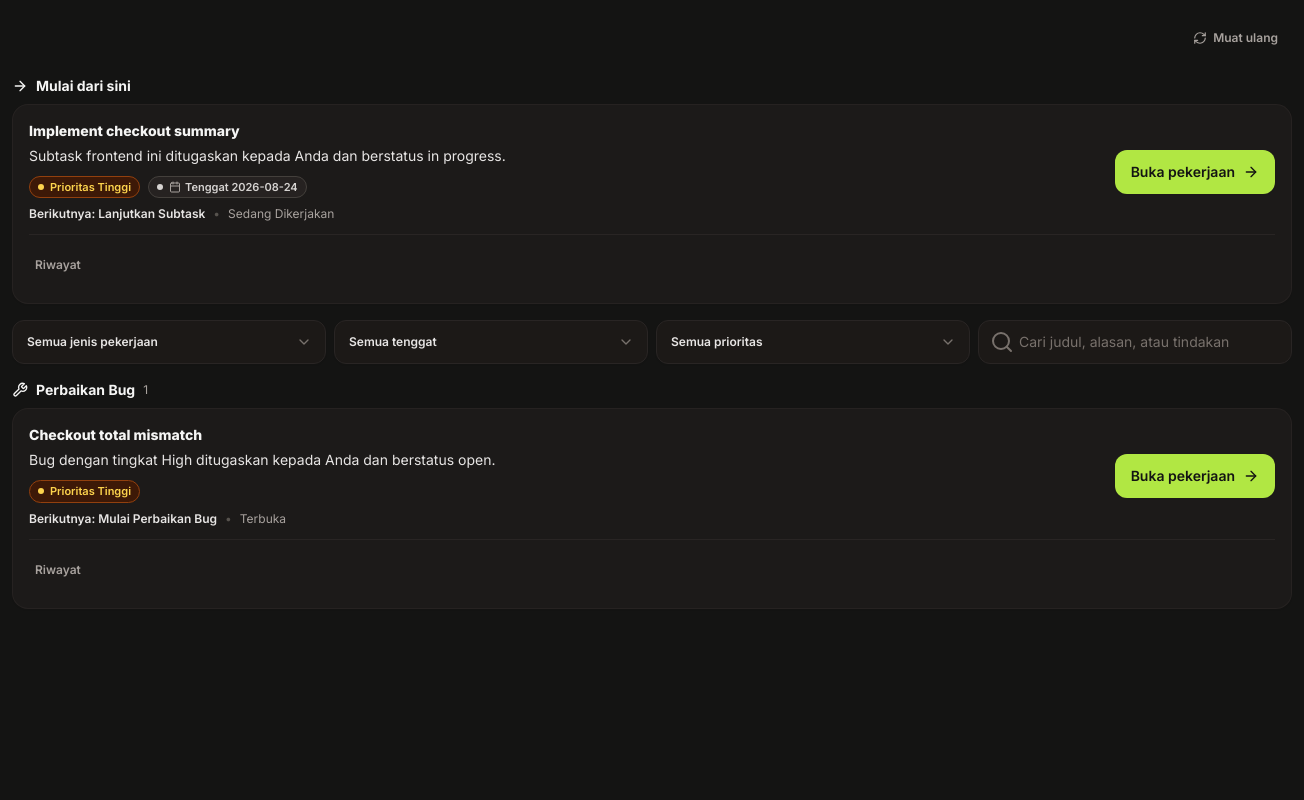
Test: RoleAwareWorkQueuePanel riwayat serah-terima (P4d, AC-4.5) › loads the Feature handoff history only when "Riwayat" is opened
Click the button "Riwayat" below "Berikutnya: Lanjutkan Subtask". click: (58, 265)
box: top-left (21, 243), bottom-right (95, 287)
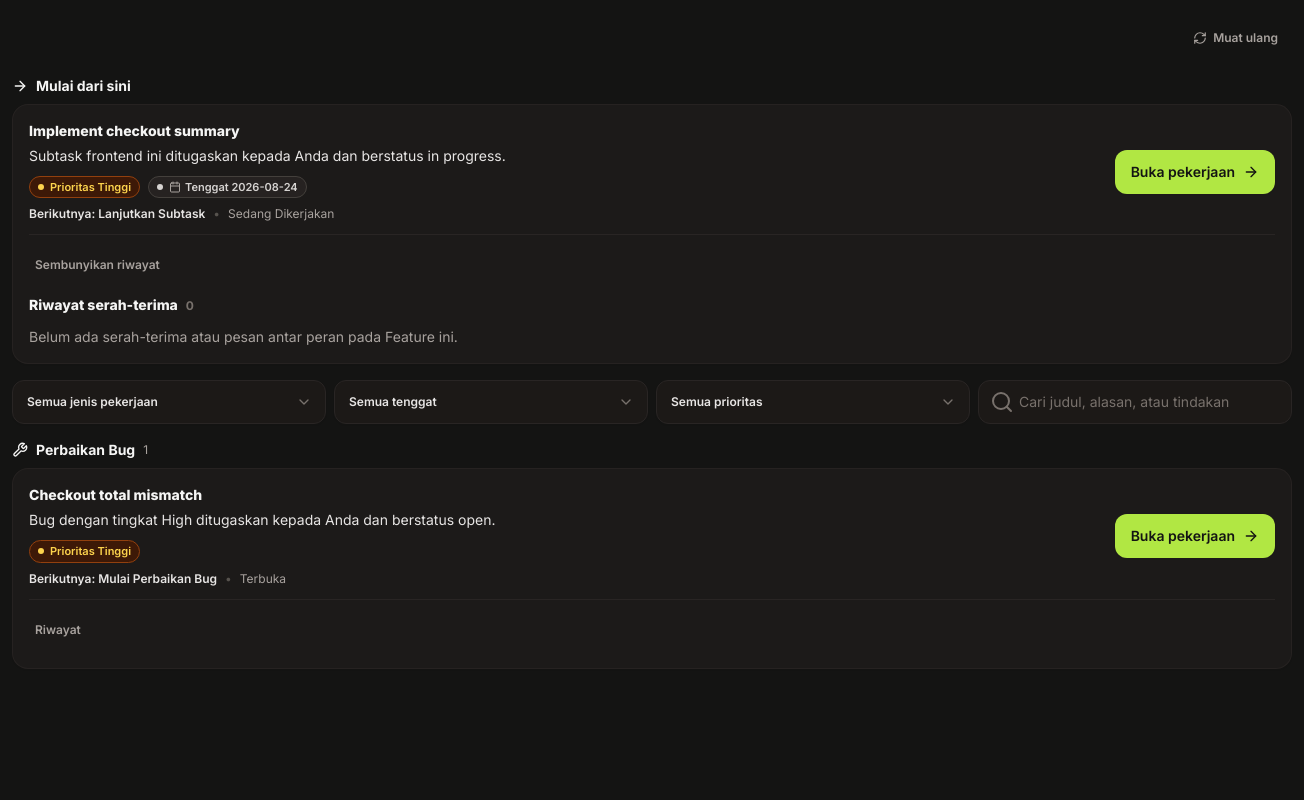
Expected: the text "Belum ada serah-terima" is shown, top-left (29, 328), bottom-right (458, 345)
